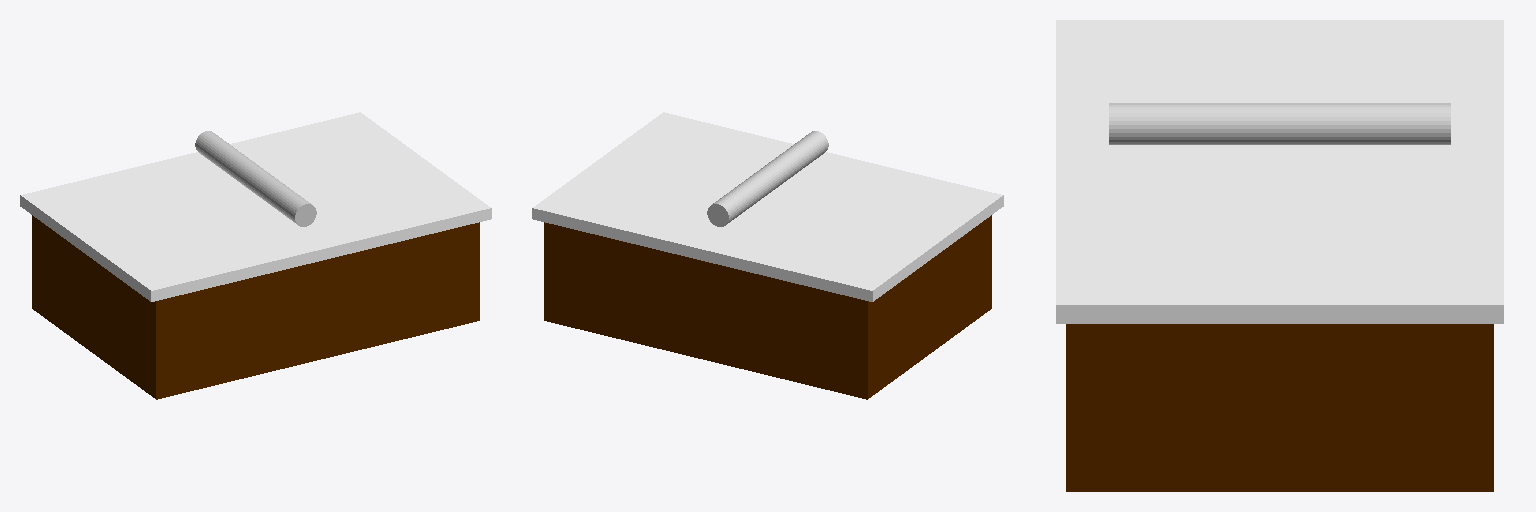
The robot description file, URDF, robot "container_no_lid":
<?xml version="1.0" encoding="utf-8"?>
<!-- =================================================================================== -->
<!-- |    This document was autogenerated by xacro from [local-path]/GS/catkin_ws/src/moma/moma_gazebo/data/models/container/container_sliding_lid.urdf.xacro | -->
<!-- |    EDITING THIS FILE BY HAND IS NOT RECOMMENDED                                 | -->
<!-- =================================================================================== -->
<robot name="container_no_lid">
  <material name="white">
    <color rgba="1 1 1 1"/>
  </material>
  <material name="dark_brown">
    <color rgba="0.4 0.2 0.0 1"/>
  </material>
  <material name="light_brown">
    <color rgba="0.6 0.29 0.0 1"/>
  </material>
  <material name="silver">
    <color rgba="0.87 0.87 0.87 0.8"/>
  </material>
  <link name="base_link">
    <inertial>
      <origin rpy="0 0 0" xyz="0 0 0"/>
      <mass value="0.0"/>
      <inertia ixx="1" ixy="0" ixz="0" iyy="1" iyz="0" izz="1"/>
    </inertial>
  </link>
  <link name="frame_bottom_plane">
    <contact>
      <lateral_friction value="1.0"/>
    </contact>
    <inertial>
      <origin rpy="0 0 0" xyz="0 0 0"/>
      <mass value="0.2"/>
      <inertia ixx="1" ixy="0" ixz="0" iyy="1" iyz="0" izz="1"/>
    </inertial>
    <visual>
      <origin rpy="0 0 0" xyz="0 0 0"/>
      <geometry>
        <box size="0.3 0.2 0.01"/>
      </geometry>
      <material name="dark_brown"/>
    </visual>
    <collision>
      <origin rpy="0 0 0" xyz="0 0 0"/>
      <geometry>
        <box size="0.3 0.2 0.01"/>
      </geometry>
    </collision>
  </link>
  <link name="frame_back_plane">
    <contact>
      <lateral_friction value="1.0"/>
    </contact>
    <inertial>
      <origin rpy="0 0 0" xyz="0 0 0"/>
      <mass value="0.2"/>
      <inertia ixx="1" ixy="0" ixz="0" iyy="1" iyz="0" izz="1"/>
    </inertial>
    <visual>
      <origin rpy="0 0 0" xyz="0 0 0"/>
      <geometry>
        <box size="0.3 0.09 0.01"/>
      </geometry>
      <material name="dark_brown"/>
    </visual>
    <collision>
      <origin rpy="0 0 0" xyz="0 0 0"/>
      <geometry>
        <box size="0.3 0.09 0.01"/>
      </geometry>
    </collision>
  </link>
  <joint name="frame_back_joint" type="fixed">
    <origin rpy="1.57079632679 0 0" xyz="0 0.095 0.04"/>
    <parent link="frame_bottom_plane"/>
    <child link="frame_back_plane"/>
  </joint>
  <link name="frame_left_plane">
    <contact>
      <lateral_friction value="1.0"/>
    </contact>
    <inertial>
      <origin rpy="0 0 0" xyz="0 0 0"/>
      <mass value="0.2"/>
      <inertia ixx="1" ixy="0" ixz="0" iyy="1" iyz="0" izz="1"/>
    </inertial>
    <visual>
      <origin rpy="0 0 0" xyz="0 0 0"/>
      <geometry>
        <box size="0.18 0.09 0.01"/>
      </geometry>
      <material name="dark_brown"/>
    </visual>
    <collision>
      <origin rpy="0 0 0" xyz="0 0 0"/>
      <geometry>
        <box size="0.18 0.09 0.01"/>
      </geometry>
    </collision>
  </link>
  <joint name="frame_left_joint" type="fixed">
    <origin rpy="1.57079632679 0 1.57079632679" xyz="-0.145 0 0.04"/>
    <parent link="frame_bottom_plane"/>
    <child link="frame_left_plane"/>
  </joint>
  <link name="frame_right_plane">
    <contact>
      <lateral_friction value="1.0"/>
    </contact>
    <inertial>
      <origin rpy="0 0 0" xyz="0 0 0"/>
      <mass value="0.2"/>
      <inertia ixx="1" ixy="0" ixz="0" iyy="1" iyz="0" izz="1"/>
    </inertial>
    <visual>
      <origin rpy="0 0 0" xyz="0 0 0"/>
      <geometry>
        <box size="0.18 0.09 0.01"/>
      </geometry>
      <material name="dark_brown"/>
    </visual>
    <collision>
      <origin rpy="0 0 0" xyz="0 0 0"/>
      <geometry>
        <box size="0.18 0.09 0.01"/>
      </geometry>
    </collision>
  </link>
  <joint name="frame_right_joint" type="fixed">
    <origin rpy="1.57079632679 0 1.57079632679" xyz="0.145 0 0.04"/>
    <parent link="frame_bottom_plane"/>
    <child link="frame_right_plane"/>
  </joint>
  <link name="frame_front_plane">
    <contact>
      <lateral_friction value="1.0"/>
    </contact>
    <inertial>
      <origin rpy="0 0 0" xyz="0 0 0"/>
      <mass value="0.2"/>
      <inertia ixx="1" ixy="0" ixz="0" iyy="1" iyz="0" izz="1"/>
    </inertial>
    <visual>
      <origin rpy="0 0 0" xyz="0 0 0"/>
      <geometry>
        <box size="0.3 0.09 0.01"/>
      </geometry>
      <material name="dark_brown"/>
    </visual>
    <collision>
      <origin rpy="0 0 0" xyz="0 0 0"/>
      <geometry>
        <box size="0.3 0.09 0.01"/>
      </geometry>
    </collision>
  </link>
  <joint name="frame_front_joint" type="fixed">
    <origin rpy="1.57079632679 0 0" xyz="0 -0.095 0.04"/>
    <parent link="frame_bottom_plane"/>
    <child link="frame_front_plane"/>
  </joint>
  <joint name="frame_joint" type="fixed">
    <origin rpy="0 0 0" xyz="0 0 0.005"/>
    <parent link="base_link"/>
    <child link="frame_bottom_plane"/>
  </joint>
  <link name="lid_plane">
    <contact>
      <lateral_friction value="1.0"/>
    </contact>
    <inertial>
      <origin rpy="0 0 0" xyz="0 0 0"/>
      <mass value="0.2"/>
      <inertia ixx="1" ixy="0" ixz="0" iyy="1" iyz="0" izz="1"/>
    </inertial>
    <visual>
      <origin rpy="0 0 0" xyz="0 0 0"/>
      <geometry>
        <box size="0.315 0.21 0.01"/>
      </geometry>
      <material name="white"/>
    </visual>
    <collision>
      <origin rpy="0 0 0" xyz="0 0 0"/>
      <geometry>
        <box size="0.315 0.21 0.01"/>
      </geometry>
    </collision>
  </link>
  <joint name="lid_joint" type="prismatic">
    <origin rpy="0 0 0" xyz="0 0 0.09"/>
    <parent link="frame_bottom_plane"/>
    <child link="lid_plane"/>
    <axis xyz="1 0 0"/>
    <dynamics damping="8.0"/>
    <limit effort="10.0" lower="0.0" upper="0.27" velocity="1.5"/>
  </joint>
  <link name="handle">
    <inertial>
      <origin rpy="0 0 0" xyz="0 0 0"/>
      <mass value="0.2"/>
      <inertia ixx="1" ixy="0" ixz="0" iyy="1" iyz="0" izz="1"/>
    </inertial>
    <collision>
      <origin rpy="0 0 0" xyz="0 0 0"/>
      <geometry>
        <cylinder length="0.16" radius="0.01"/>
      </geometry>
    </collision>
    <visual>
      <origin rpy="0 0 0" xyz="0 0 0"/>
      <geometry>
        <cylinder length="0.16" radius="0.01"/>
      </geometry>
      <material name="silver"/>
    </visual>
  </link>
  <joint name="handle_joint" type="fixed">
    <origin rpy="1.57079632679 0 0" xyz="0 0 0.025"/>
    <parent link="lid_plane"/>
    <child link="handle"/>
  </joint>
</robot>

--- What the picture shows (computed from the rendered views, not written in the file) ---
The picture shows the robot from 3 angles, left to right: view 1: azimuth 30°, elevation 25°; view 2: azimuth 150°, elevation 25°; view 3: azimuth 270°, elevation 25°; orthographic projection.
Model container_no_lid with 8 links and 7 joints (1 prismatic, 6 fixed), rooted at base_link, posed all joints at 0.
Visible links, largest first — view 1: lid_plane, frame_front_plane, frame_left_plane, handle, frame_bottom_plane, frame_back_plane; view 2: lid_plane, frame_back_plane, frame_left_plane, handle, frame_bottom_plane, frame_front_plane; view 3: lid_plane, frame_right_plane, handle, frame_front_plane, frame_back_plane, frame_bottom_plane.
Boxes of the visible links, x1,y1,x2,y2 form: lid_plane: [20, 112, 491, 301]; frame_front_plane: [150, 222, 479, 399]; frame_left_plane: [38, 220, 149, 394]; handle: [195, 131, 316, 226]; frame_bottom_plane: [32, 298, 479, 399]; frame_back_plane: [32, 215, 37, 312]; lid_plane: [532, 112, 1003, 301]; frame_back_plane: [544, 222, 873, 398]; frame_left_plane: [874, 220, 985, 394]; handle: [707, 131, 828, 226]; frame_bottom_plane: [544, 298, 991, 399]; frame_front_plane: [986, 215, 991, 312]; lid_plane: [1056, 20, 1503, 323]; frame_right_plane: [1088, 324, 1471, 491]; handle: [1109, 103, 1450, 144]; frame_front_plane: [1066, 324, 1087, 491]; frame_back_plane: [1472, 324, 1493, 491]; frame_bottom_plane: [1066, 472, 1493, 491].
Size in the robot's own frame: 0.315 by 0.21 by 0.13 metres.
Geometry: primitives only (box / cylinder / sphere), no mesh files.